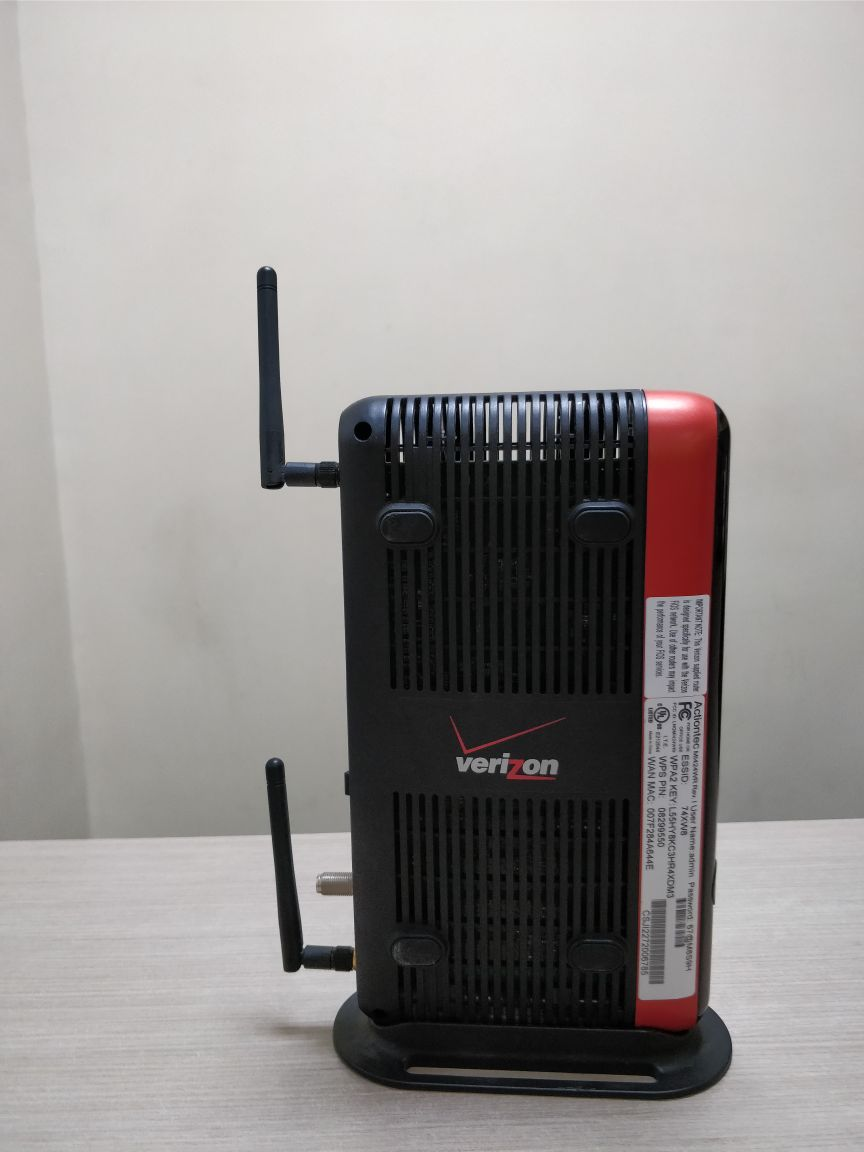Verizon Router: (221, 239, 744, 1104)
